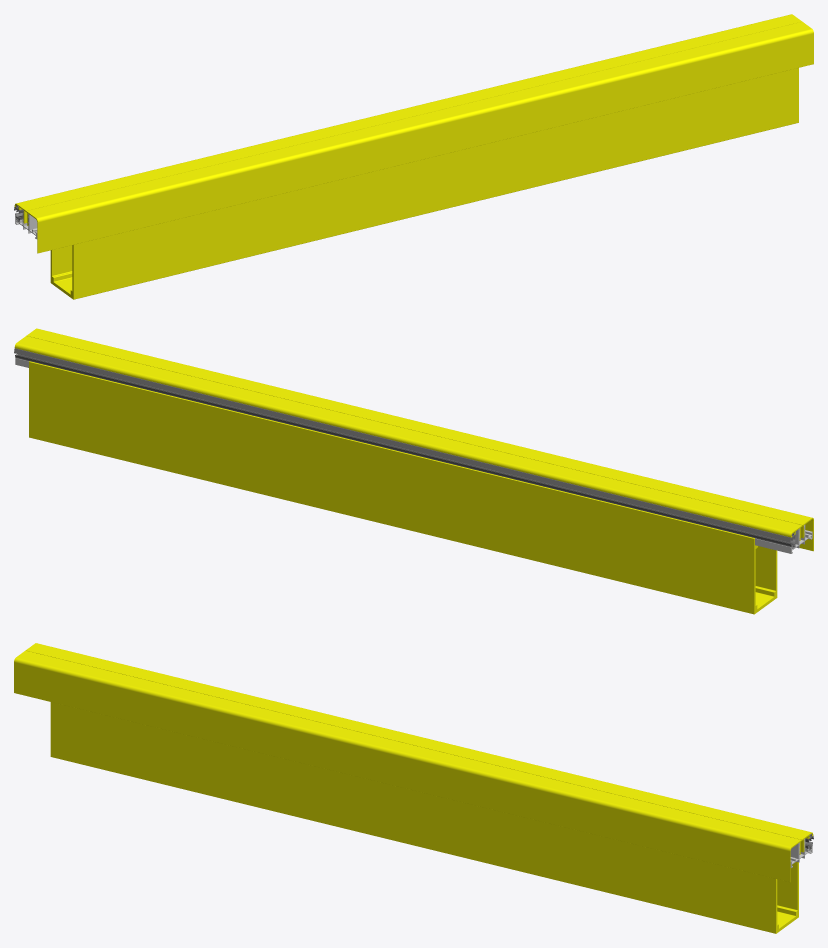
Rendered from rafterSide.glb.
3 renders of one model, top to bottom at view 1: azimuth 30°, elevation 25°; view 2: azimuth 150°, elevation 25°; view 3: azimuth 330°, elevation 25°, orthographic.
Parts seen in each view (by area): view 1: Tr_gerdeckel_Seiten_Premium_2_1, Tr_ger_Lower_1_1; view 2: Tr_ger_Lower_1_1, Tr_gerdeckel_Seiten_Premium_2_1, Group3, Group2, Tr_ger_Upper_2_1; view 3: Tr_gerdeckel_Seiten_Premium_2_1, Tr_ger_Lower_1_1.
Part boxes in pixels (<box>): Tr_gerdeckel_Seiten_Premium_2_1: <box>14,14,813,253</box>; Tr_ger_Lower_1_1: <box>50,68,798,299</box>; Tr_ger_Lower_1_1: <box>29,361,777,614</box>; Tr_gerdeckel_Seiten_Premium_2_1: <box>14,328,813,551</box>; Group3: <box>14,348,795,542</box>; Group2: <box>15,354,796,548</box>; Tr_ger_Upper_2_1: <box>15,358,812,553</box>; Tr_gerdeckel_Seiten_Premium_2_1: <box>14,643,813,882</box>; Tr_ger_Lower_1_1: <box>50,702,798,933</box>.
Bounding box in the file's own units: 1.07 × 0.118 × 0.0569.
Materials: 3 (1 with a texture image).
